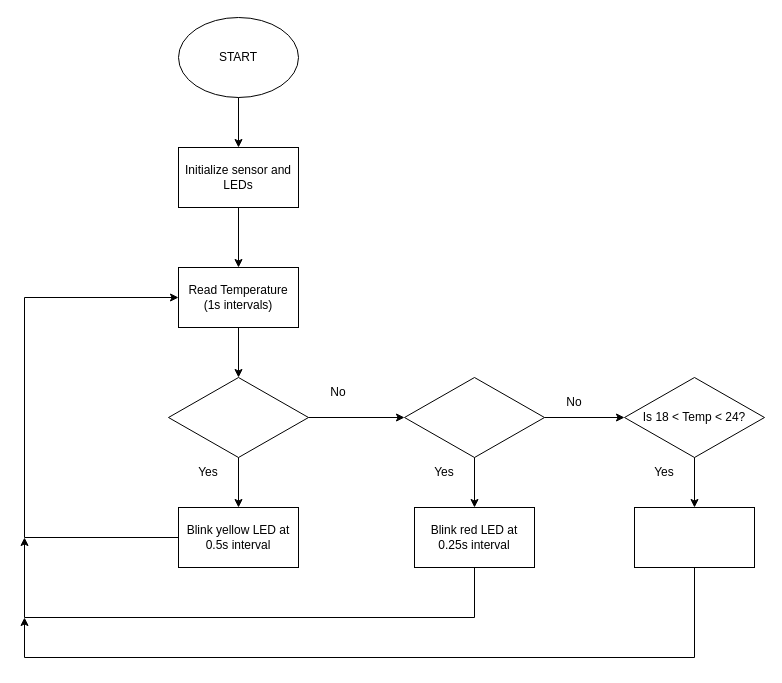
Some shapes in this 782 by 683 pixel diagram are drawn without their labels. The shapes that lost their labels are listed below. From the top down, each one's box as (x1, y1, x2, y2) in pixels, then its label:
(168, 376, 308, 458): Is Temp < 18C?
(404, 376, 544, 458): Is Temp > 24C?
(634, 506, 754, 568): Green LED on constantly
